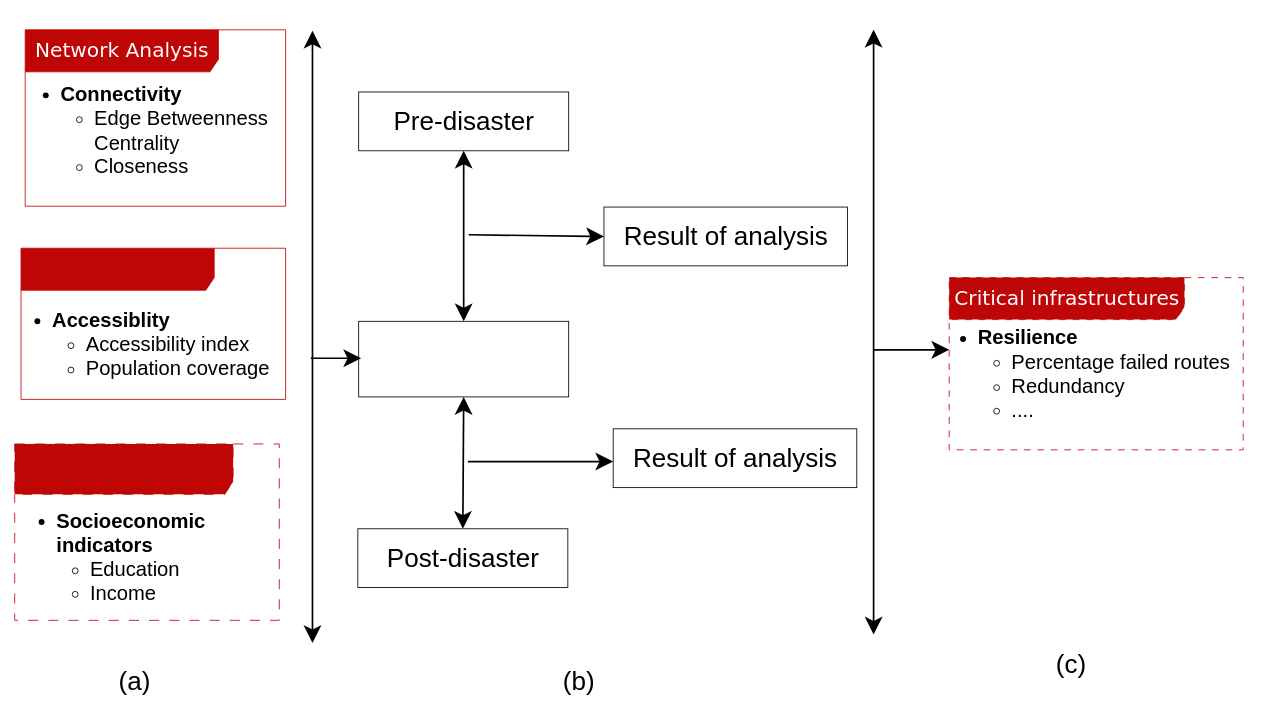
Some shapes in this 1276 by 724 pixel diagram are drawn without their labels. The box of each missing label's shape, as (x1, y1, x2, y2) in pixels:
Accesibility access: (20, 247, 286, 399)
Assessment criteria: (358, 320, 569, 397)
Vulnerability Criteria: (14, 443, 279, 620)
